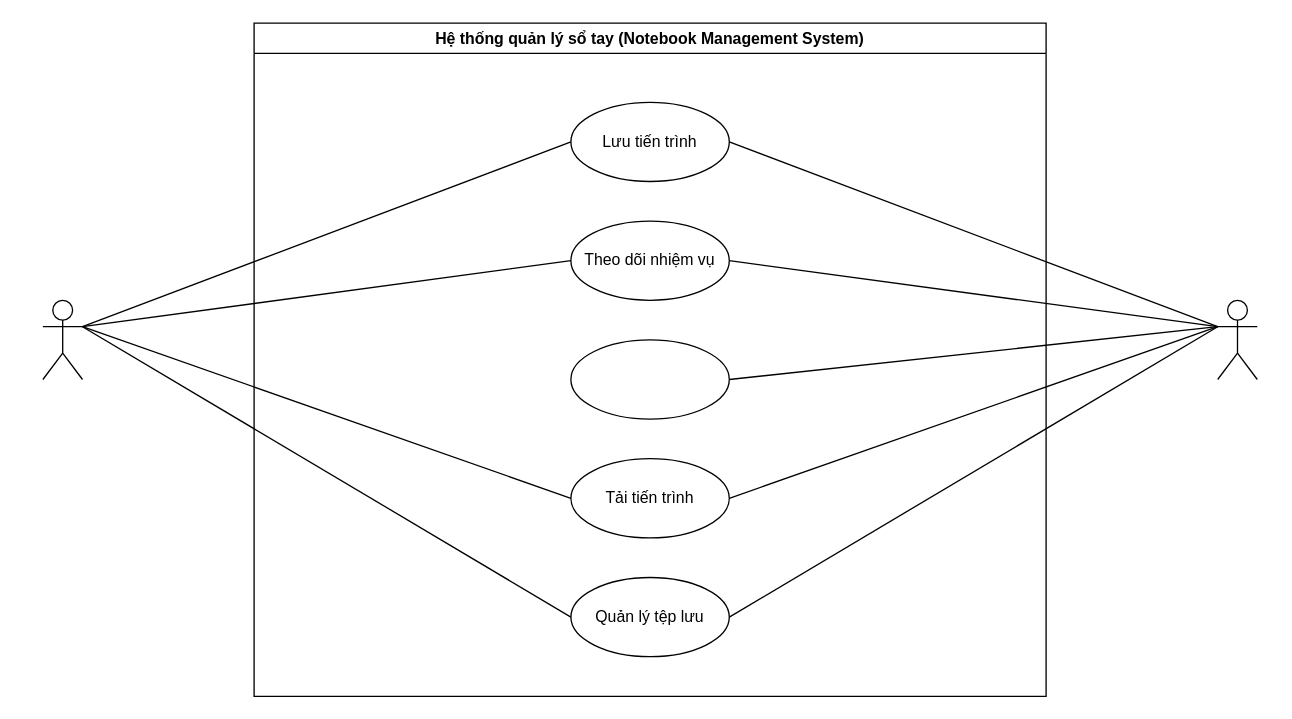
Image size: 1292x719. Some labels were removed from this diagram. Here are the shapes that lost their labels. From the top down, the centre of each, then its label:
At pixel 62 339: "Người chơi (Player)".
At pixel 1236 339: "Hệ thống (System)".
At pixel 649 379: "Phát cắt cảnh".
